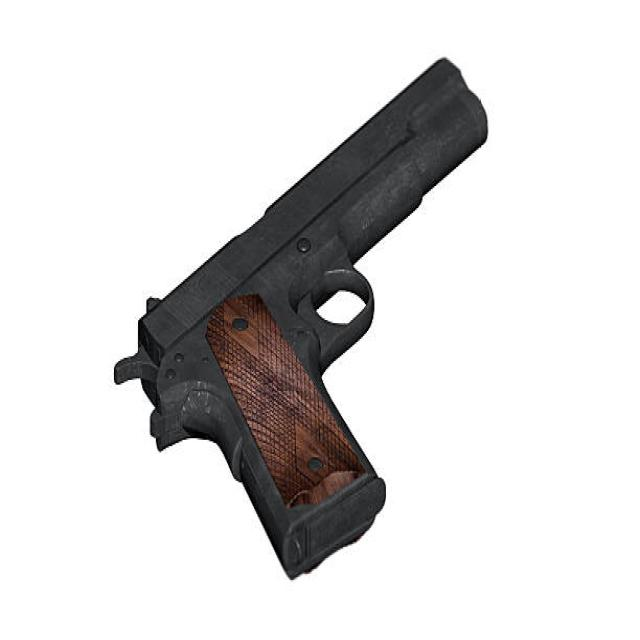pistol: (112, 46, 492, 585)
